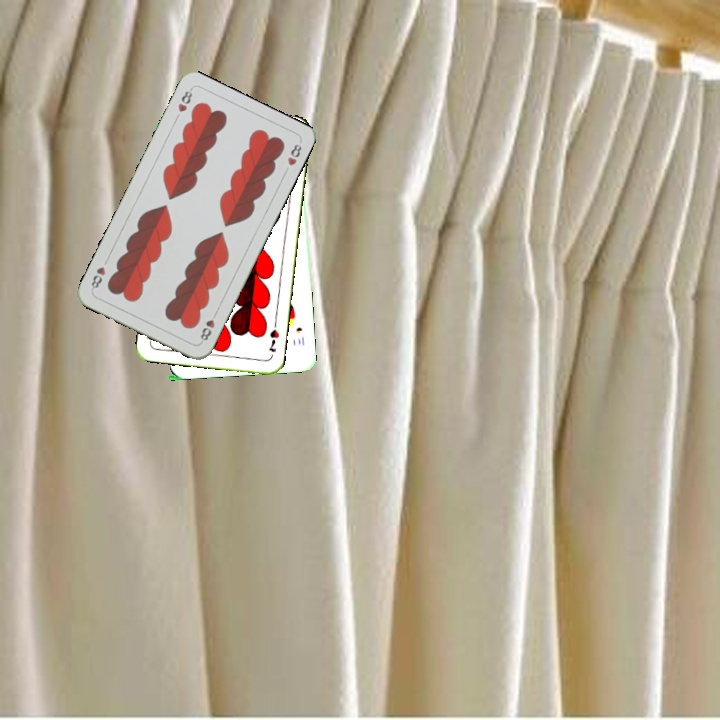H7: (264, 325, 282, 355)
H8: (196, 307, 220, 345), (174, 85, 195, 115)
S10: (292, 323, 307, 348)
